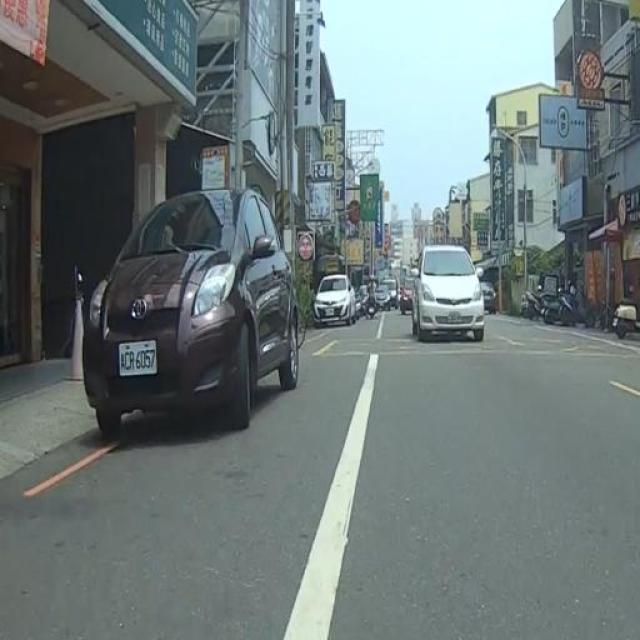Legalparking: (314, 275, 358, 326)
illegalparking: (84, 189, 300, 438)
